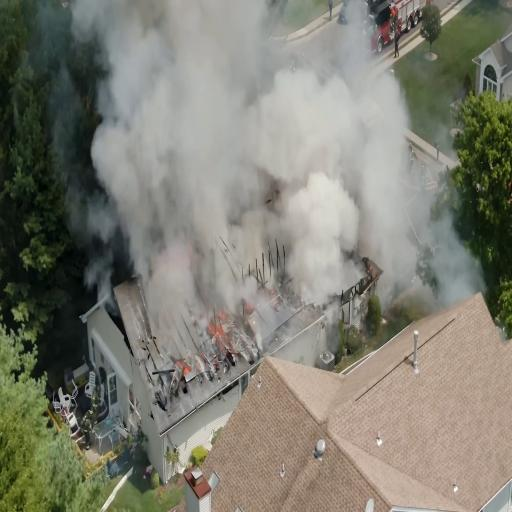smoke: (103, 56, 267, 258), (265, 162, 365, 286)
